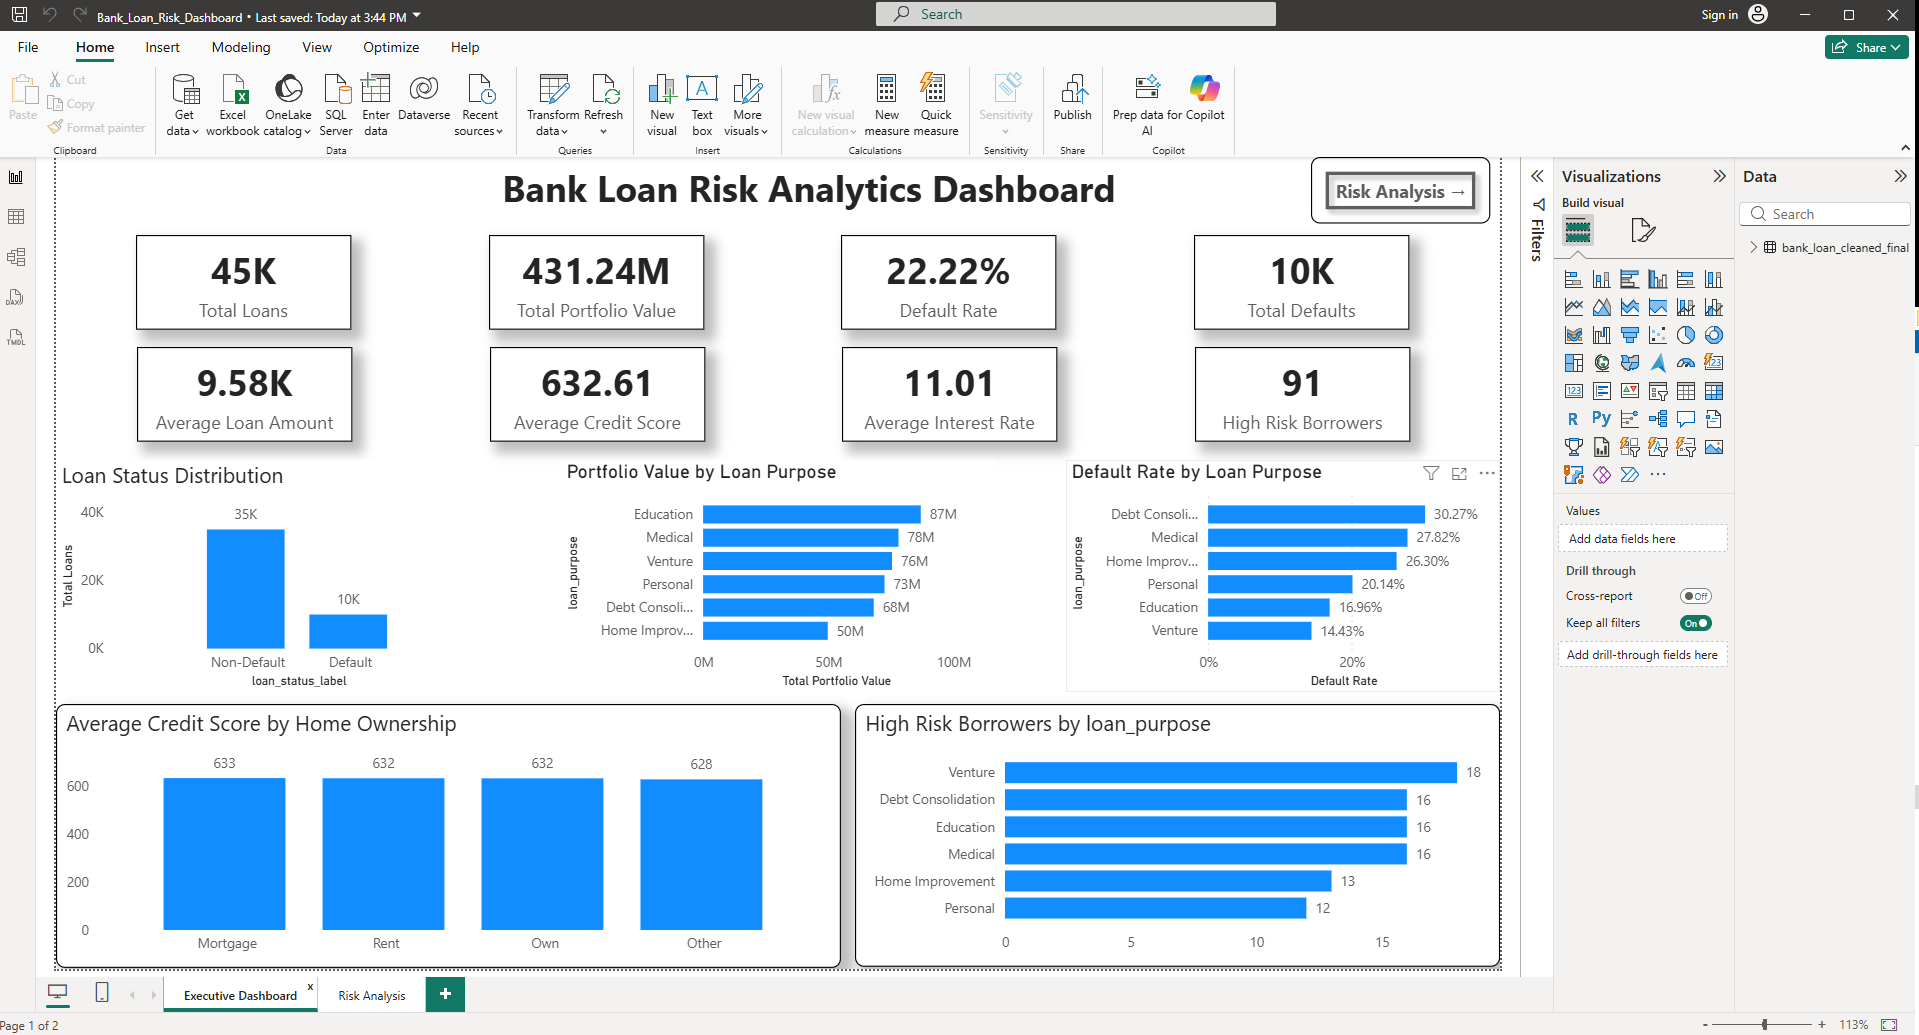

The page's visual inventory and layout, read from the dashboard file:
{"tool":"powerbi","page":{"name":"Executive Dashboard","canvas":[1280,720],"ordinal":0},"visuals":[{"type":"textbox","box":[268.7,0,798,59.4],"z":0},{"type":"card","fields":{"Values":["bank_loan_cleaned_final.Total Loans"]},"box":[71,68.8,190.6,83.6],"z":1000},{"type":"card","fields":{"Values":["bank_loan_cleaned_final.Total Portfolio Value"]},"box":[383.5,68.8,190.6,83.6],"z":2000},{"type":"card","fields":{"Values":["bank_loan_cleaned_final.Default Rate"]},"box":[696.1,68.8,190.6,83.6],"z":3000},{"type":"card","fields":{"Values":["bank_loan_cleaned_final.Total Defaults"]},"box":[1008.6,68.8,190.6,83.6],"z":4000},{"type":"card","fields":{"Values":["bank_loan_cleaned_final.Average Loan Amount"]},"box":[72,168.9,190.6,83.6],"z":5000},{"type":"card","fields":{"Values":["bank_loan_cleaned_final.Average Credit Score"]},"box":[384.5,168.9,190.6,83.6],"z":6000},{"type":"card","fields":{"Values":["bank_loan_cleaned_final.Average Interest Rate"]},"box":[697.1,168.9,190.6,83.6],"z":7000},{"type":"card","fields":{"Values":["bank_loan_cleaned_final.High Risk Borrowers"]},"box":[1009.6,168.9,190.6,83.6],"z":8000},{"type":"clusteredColumnChart","title":"Loan Status Distribution","fields":{"Category":["bank_loan_cleaned_final.loan_status_label"],"Y":["bank_loan_cleaned_final.Total Loans"]},"box":[0,268.4,384.2,206.2],"z":8001},{"type":"clusteredBarChart","title":"Portfolio Value by Loan Purpose","fields":{"Category":["bank_loan_cleaned_final.loan_purpose"],"Y":["bank_loan_cleaned_final.Total Portfolio Value"]},"box":[447.4,268.4,384.2,206.2],"z":8002},{"type":"clusteredBarChart","title":"Default Rate by Loan Purpose","fields":{"Category":["bank_loan_cleaned_final.loan_purpose"],"Y":["bank_loan_cleaned_final.Default Rate"]},"box":[895.8,268.4,384.2,206.2],"z":8003},{"type":"clusteredColumnChart","title":"Average Credit Score by Home Ownership","fields":{"Category":["bank_loan_cleaned_final.home_ownership"],"Y":["bank_loan_cleaned_final.Average Credit Score"]},"box":[0,485.3,696.4,234.4],"z":8004},{"type":"clusteredBarChart","fields":{"Category":["bank_loan_cleaned_final.loan_purpose"],"Y":["bank_loan_cleaned_final.High Risk Borrowers"]},"box":[708.1,485.3,571.9,233.4],"z":8005},{"type":"actionButton","box":[1112.8,0,158.7,59.4],"z":8006}]}

Visuals, with their boxes on the page's 1280x720 design canvas (x1, y1, x2, y2). These are canvas units, not pixel positions in the 1919x1035 screenshot, which may show the page scaled, cropped or inside an application window:
textbox: Rect(269, 0, 1067, 59)
card - bank_loan_cleaned_final.Total Loans: Rect(71, 69, 262, 152)
card - bank_loan_cleaned_final.Total Portfolio Value: Rect(384, 69, 574, 152)
card - bank_loan_cleaned_final.Default Rate: Rect(696, 69, 887, 152)
card - bank_loan_cleaned_final.Total Defaults: Rect(1009, 69, 1199, 152)
card - bank_loan_cleaned_final.Average Loan Amount: Rect(72, 169, 263, 252)
card - bank_loan_cleaned_final.Average Credit Score: Rect(384, 169, 575, 252)
card - bank_loan_cleaned_final.Average Interest Rate: Rect(697, 169, 888, 252)
card - bank_loan_cleaned_final.High Risk Borrowers: Rect(1010, 169, 1200, 252)
"Loan Status Distribution" clusteredColumnChart: Rect(0, 268, 384, 475)
"Portfolio Value by Loan Purpose" clusteredBarChart: Rect(447, 268, 832, 475)
"Default Rate by Loan Purpose" clusteredBarChart: Rect(896, 268, 1280, 475)
"Average Credit Score by Home Ownership" clusteredColumnChart: Rect(0, 485, 696, 720)
clusteredBarChart - bank_loan_cleaned_final.loan_purpose x bank_loan_cleaned_final.High Risk Borrowers: Rect(708, 485, 1280, 719)
actionButton: Rect(1113, 0, 1272, 59)
